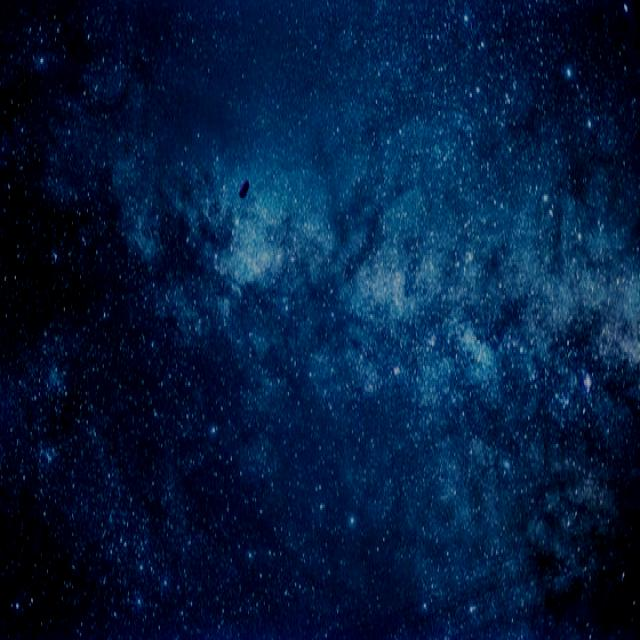large_debris: (237, 181, 250, 200)
